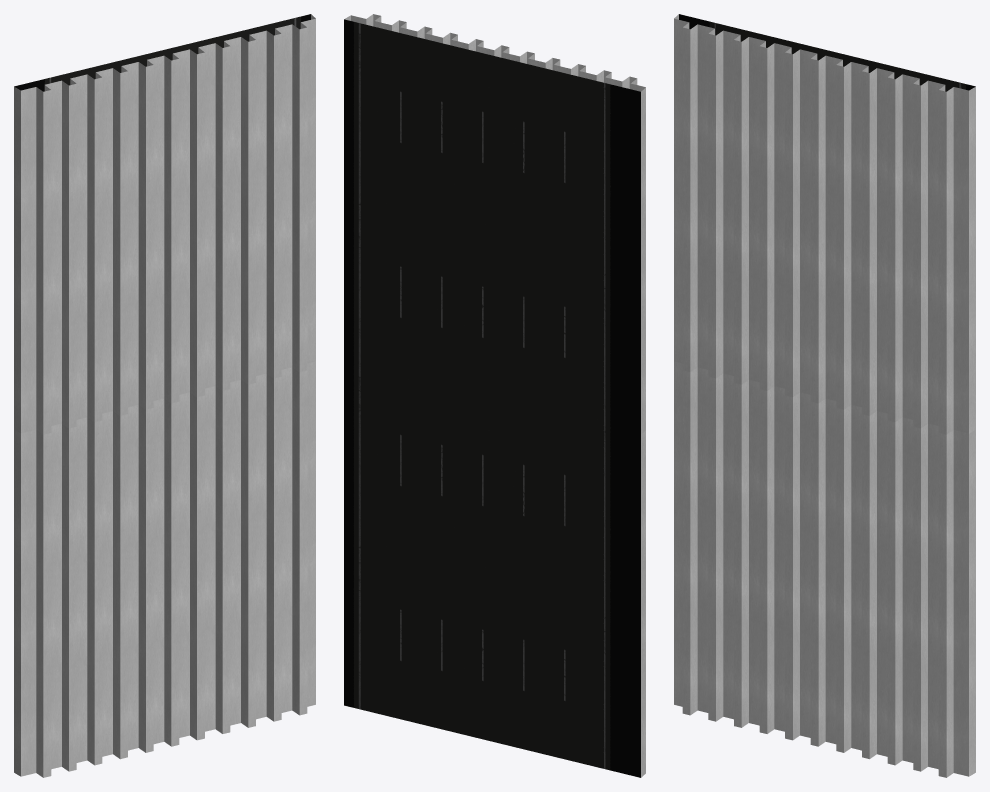
Rendered from elevated-6ls-segment.fbx.
The picture shows the model from 3 angles, left to right: view 1: azimuth 30°, elevation 25°; view 2: azimuth 150°, elevation 25°; view 3: azimuth 330°, elevation 25°; orthographic projection.
Parts seen in each view (by area): view 1: elevated-6ls-segment; view 2: elevated-6ls-segment; view 3: elevated-6ls-segment.
Part boxes in pixels (<box>): elevated-6ls-segment: <box>14,14,315,777</box>; elevated-6ls-segment: <box>344,14,645,777</box>; elevated-6ls-segment: <box>674,14,975,777</box>.
Bounding box in the file's own units: 2900 × 6400 × 217.
1 material, 1 textured.
